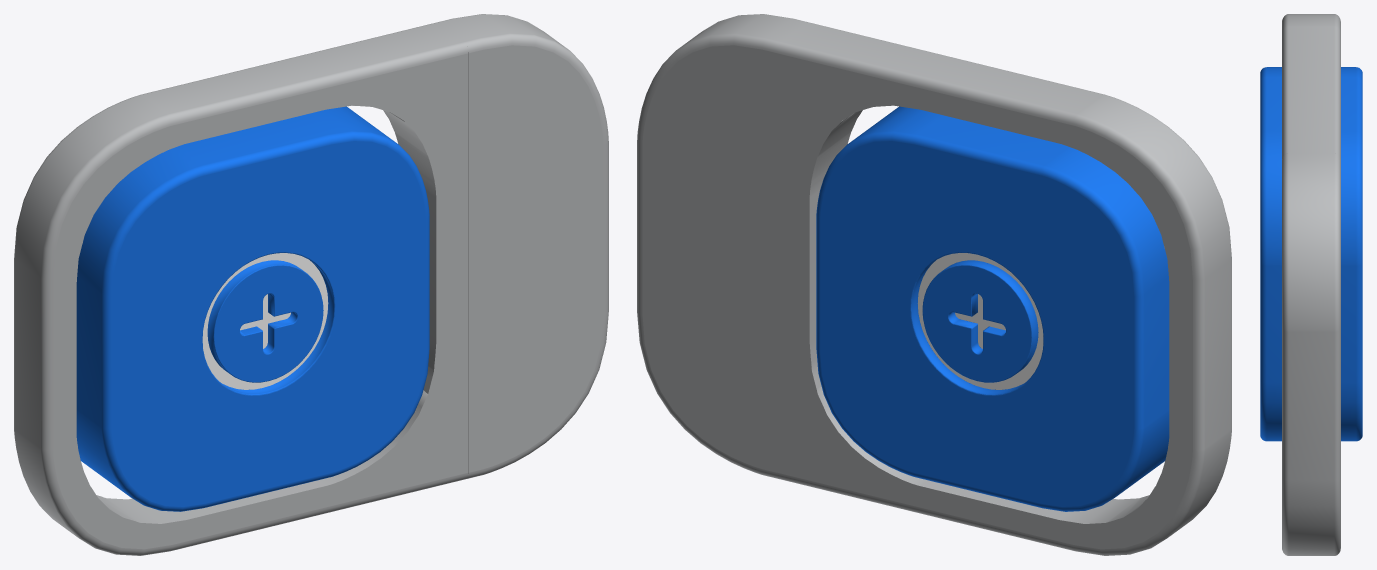
File: hotspot.glb
The picture shows the model from 3 angles, left to right: view 1: azimuth 30°, elevation 25°; view 2: azimuth 150°, elevation 25°; view 3: azimuth 270°, elevation 25°; orthographic projection. The views are drawn at different scales.
Visible parts, largest first — view 1: Hotspot_Pill, Hotspot_Surround_01, Hotspot_Surround_03.001; view 2: Hotspot_Pill, Hotspot_Surround_01, Hotspot_Surround_03.001; view 3: Hotspot_Surround_03.001, Hotspot_Pill, Hotspot_Surround_01.
Boxes of the visible parts, bbox=[...] form: Hotspot_Pill: bbox=[76, 106, 429, 511]; Hotspot_Surround_01: bbox=[14, 22, 468, 555]; Hotspot_Surround_03.001: bbox=[438, 14, 608, 478]; Hotspot_Pill: bbox=[816, 106, 1169, 511]; Hotspot_Surround_01: bbox=[777, 22, 1231, 555]; Hotspot_Surround_03.001: bbox=[637, 14, 807, 478]; Hotspot_Surround_03.001: bbox=[1282, 153, 1340, 555]; Hotspot_Pill: bbox=[1260, 67, 1362, 441]; Hotspot_Surround_01: bbox=[1282, 14, 1340, 159].
Bounding box in the file's own units: 0.5399 × 0.3975 × 0.0964.
